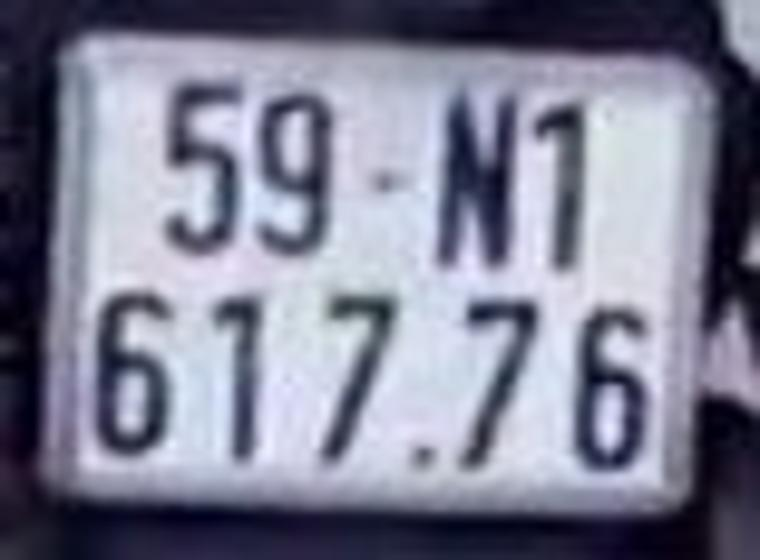-: (365, 165, 416, 194)
.: (408, 450, 438, 471)
1: (537, 95, 583, 266), (217, 297, 263, 460)
5: (163, 81, 237, 254)
6: (92, 283, 171, 451), (574, 302, 650, 469)
7: (459, 300, 538, 468), (312, 299, 391, 464)
9: (259, 95, 326, 252)
N: (446, 87, 512, 268)
